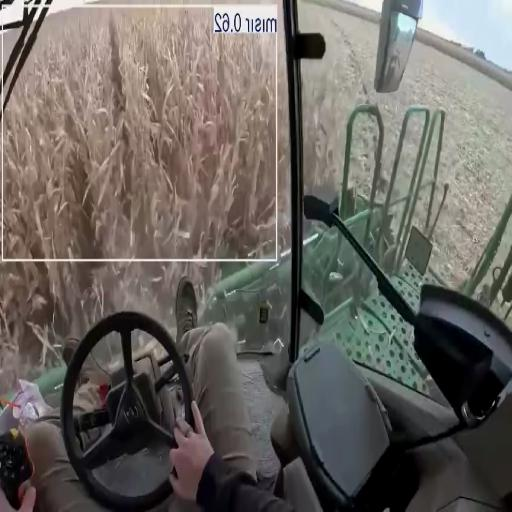misir: (4, 9, 275, 258), (1, 262, 178, 343)
